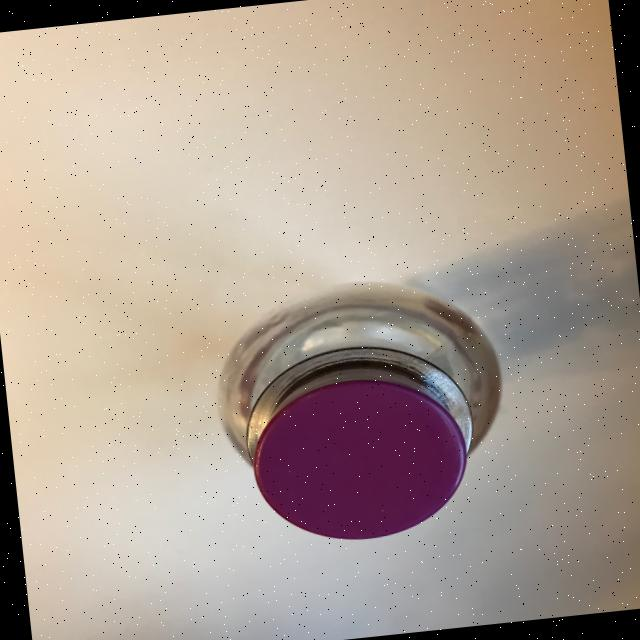glass: (205, 266, 517, 554)
